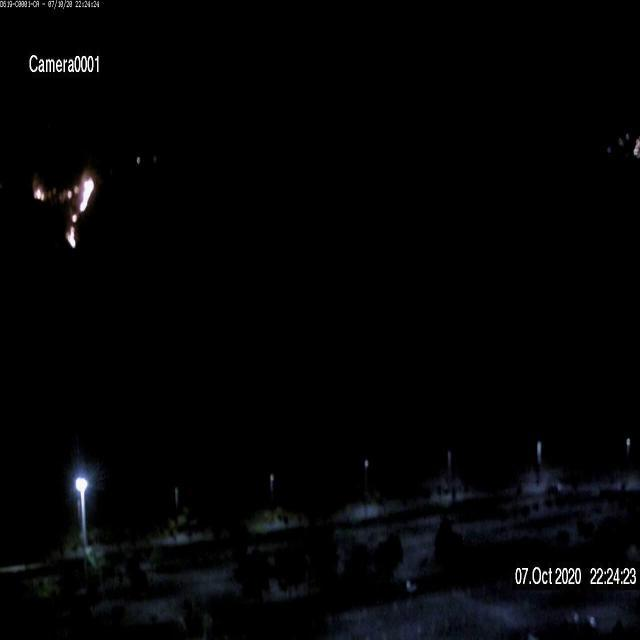Fire: (63, 170, 99, 248), (33, 177, 47, 201)
